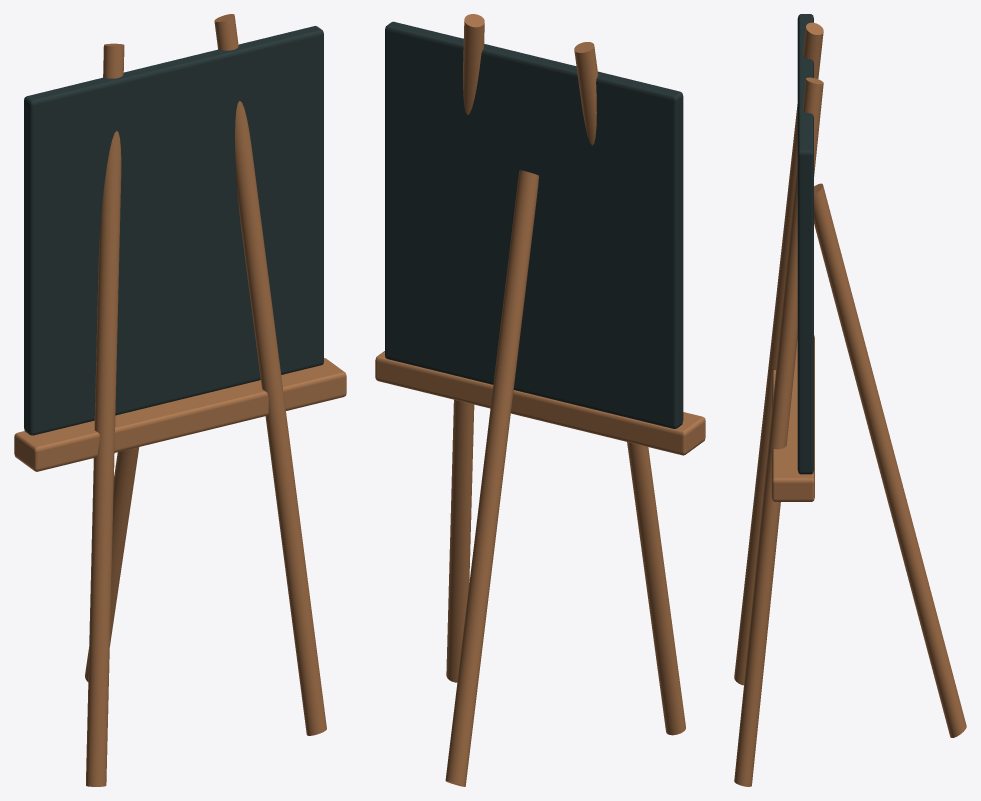
File: wp-pupitre-a-partitions.glb
3 views of the same model, side by side, from view 1: azimuth 30°, elevation 25°; view 2: azimuth 150°, elevation 25°; view 3: azimuth 270°, elevation 25° (orthographic). The views are drawn at different scales.
Parts seen in each view (by area): view 1: wp-pupitre-a-partitions; view 2: wp-pupitre-a-partitions; view 3: wp-pupitre-a-partitions.
Boxes of the visible parts, x1,y1,x2,y2 form: wp-pupitre-a-partitions: (14, 14, 346, 786); wp-pupitre-a-partitions: (375, 14, 705, 786); wp-pupitre-a-partitions: (734, 14, 966, 786).
Bounding box in the file's own units: 0.6 × 1.3 × 0.3999.
